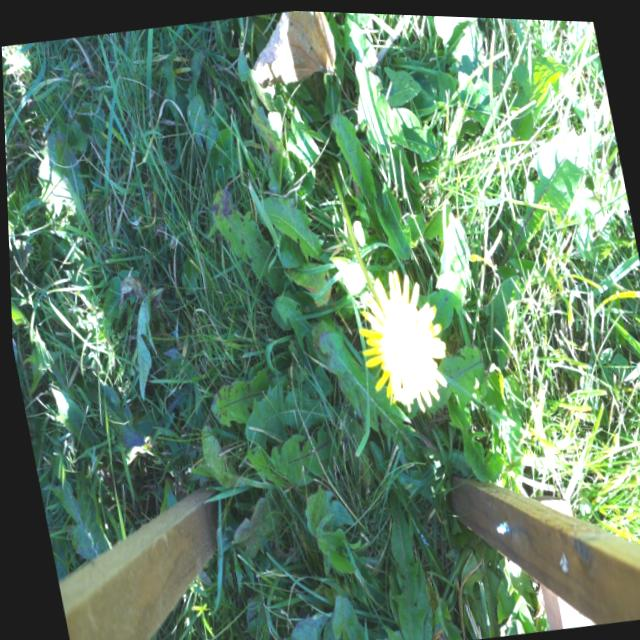base: (319, 148, 346, 188)
flower: (348, 262, 455, 412)
